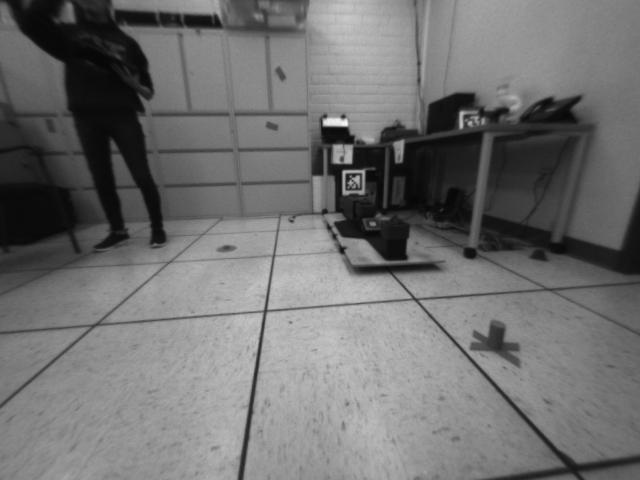X: (467, 318, 525, 370)
